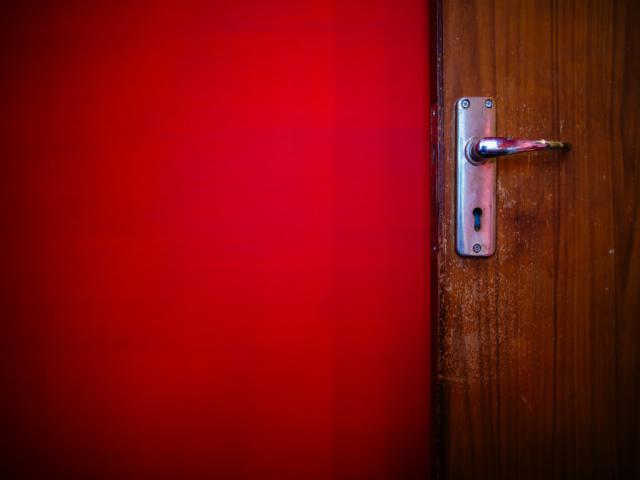Door-handle: (456, 96, 572, 257)
